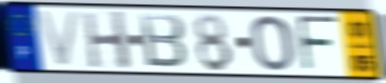8: (192, 11, 236, 73)
B: (137, 11, 189, 70)
F: (294, 14, 340, 74)
H: (80, 9, 134, 71)
O: (249, 14, 296, 73)
V: (34, 8, 83, 70)
